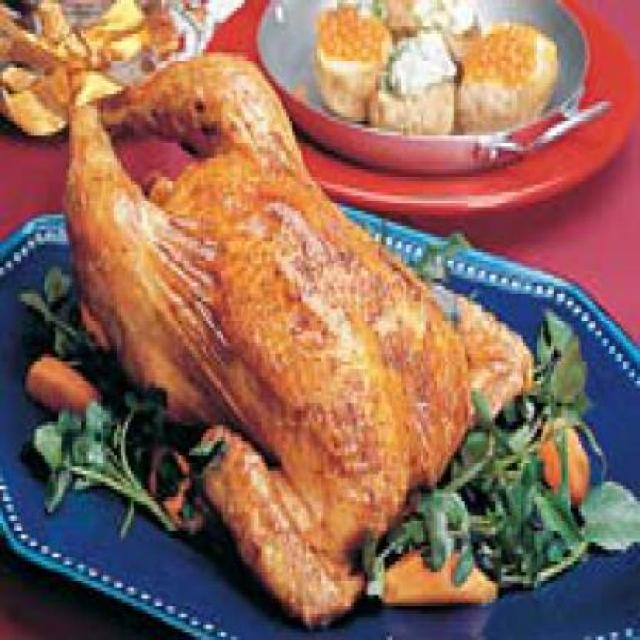Chicken roast: (45, 64, 538, 610)
